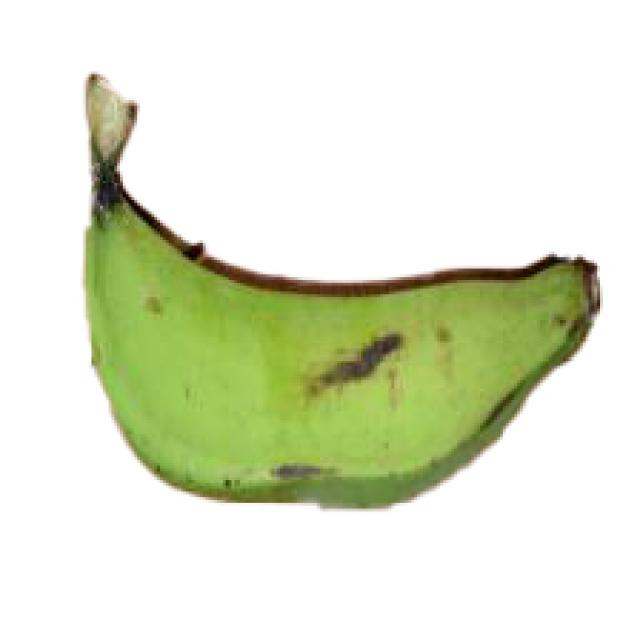fresh-banana: (80, 69, 600, 508)
